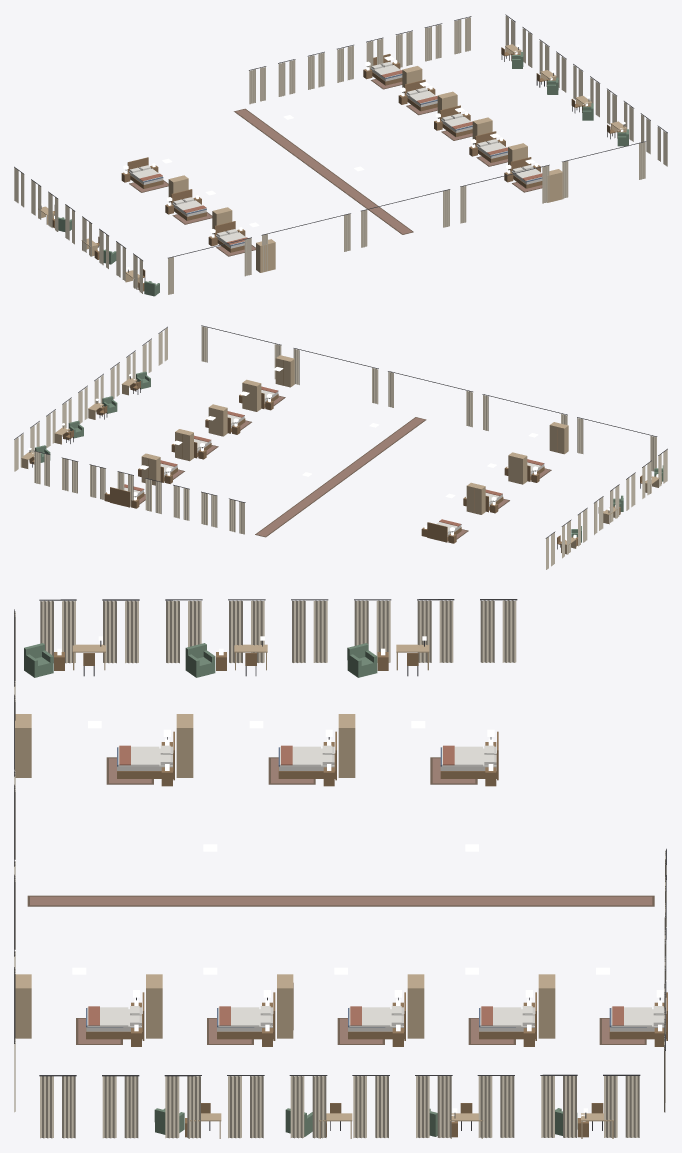
File: fine-s2.glb
3 views of the same model, one above another, from view 1: azimuth 30°, elevation 25°; view 2: azimuth 150°, elevation 25°; view 3: azimuth 270°, elevation 25° (orthographic). The views are drawn at different scales.
Visible parts, largest first — view 1: soft-s2, dresser.010, dresser.015, bed-frame.008, bed-frame.009, bed-frame.012, bed-frame.013, bed-frame.010; view 2: soft-s2, dresser.009, dresser.008, dresser.010, dresser.013, dresser.014, dresser.015, dresser.012, dresser.011, bed-frame.008, bed-frame.011; view 3: soft-s2, dresser.011, dresser.012, dresser.008, dresser.009, dresser.013, dresser.014, dresser.015, dresser.010, lounge-chair.008, lounge-chair.007, bed-frame.014 (+8 smaller).
Boxes of the visible parts, bbox=[...] form: soft-s2: bbox=[14, 14, 667, 294]; dresser.010: bbox=[256, 239, 275, 272]; dresser.015: bbox=[547, 169, 563, 202]; bed-frame.008: bbox=[127, 157, 163, 188]; bed-frame.009: bbox=[171, 189, 206, 220]; bed-frame.012: bbox=[404, 79, 437, 111]; bed-frame.013: bbox=[440, 105, 472, 136]; bed-frame.010: bbox=[214, 221, 244, 252]; soft-s2: bbox=[14, 325, 667, 569]; dresser.009: bbox=[508, 452, 527, 484]; dresser.008: bbox=[466, 482, 485, 514]; dresser.010: bbox=[549, 422, 568, 454]; dresser.013: bbox=[208, 404, 227, 436]; dresser.014: bbox=[242, 379, 261, 411]; dresser.015: bbox=[275, 355, 294, 387]; dresser.012: bbox=[175, 429, 193, 461]; dresser.011: bbox=[141, 453, 160, 485]; bed-frame.008: bbox=[427, 522, 461, 542]; bed-frame.011: bbox=[110, 487, 144, 507]; soft-s2: bbox=[14, 599, 666, 1138]; dresser.011: bbox=[538, 974, 555, 1038]; dresser.012: bbox=[407, 974, 424, 1038]; dresser.008: bbox=[338, 714, 355, 777]; dresser.009: bbox=[176, 714, 193, 777]; dresser.013: bbox=[277, 974, 293, 1038]; dresser.014: bbox=[146, 974, 162, 1038]; dresser.015: bbox=[15, 974, 31, 1038]; dresser.010: bbox=[15, 714, 31, 777]; lounge-chair.008: bbox=[185, 643, 215, 677]; lounge-chair.007: bbox=[347, 643, 377, 677]; bed-frame.014: bbox=[217, 992, 275, 1040].
Size of the model in its own units: 40.69 by 2.81 by 23.61.
